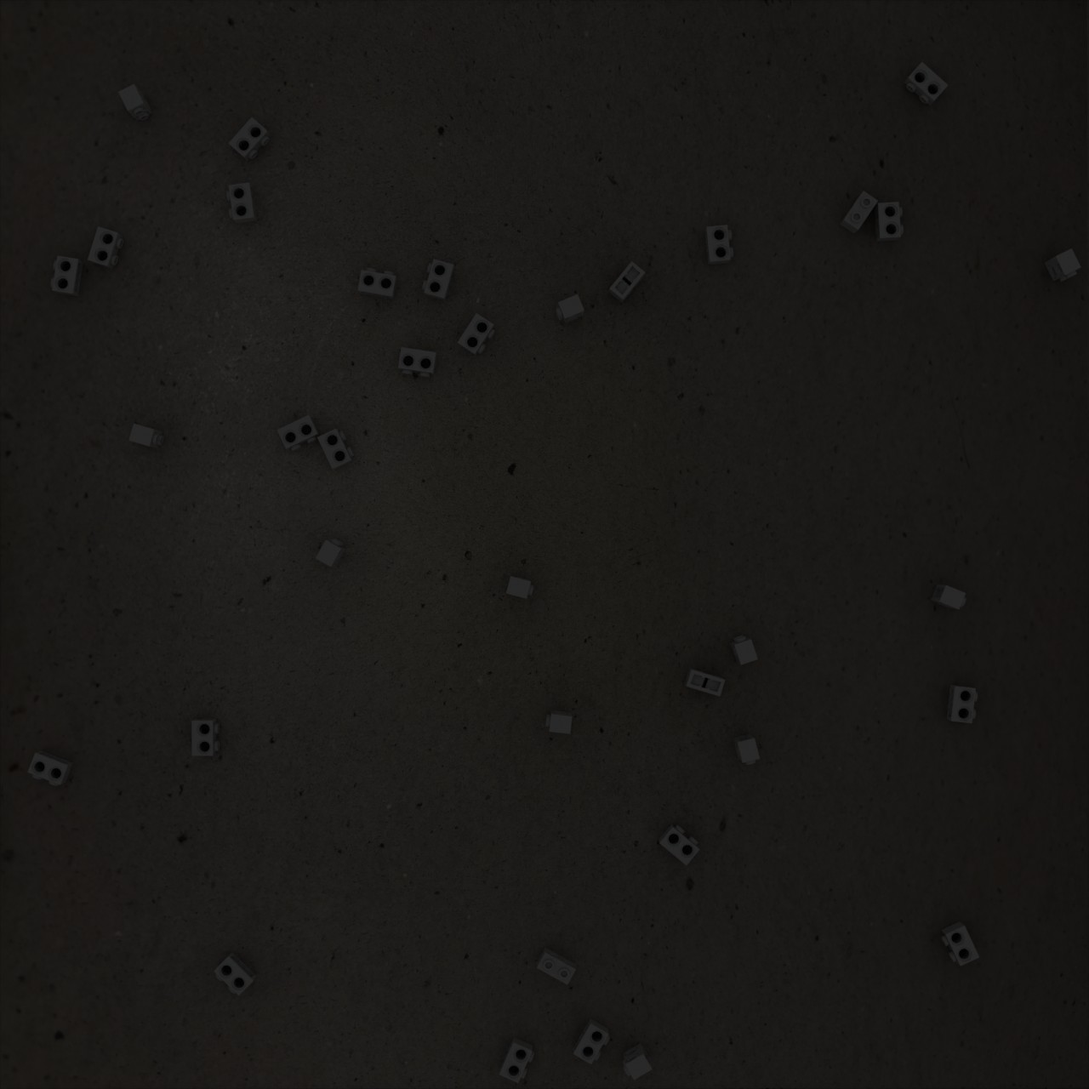lego: (904, 62, 948, 106), (228, 117, 271, 162), (214, 951, 257, 996), (658, 824, 700, 866), (941, 921, 980, 966), (573, 1018, 610, 1065), (457, 313, 496, 356), (499, 1037, 535, 1083), (27, 750, 73, 786), (840, 191, 878, 234), (87, 226, 124, 269), (608, 261, 645, 303), (317, 428, 354, 470), (277, 415, 320, 451), (537, 947, 576, 985), (422, 259, 455, 301), (51, 256, 84, 297), (226, 182, 257, 224), (118, 84, 153, 121), (1044, 248, 1081, 282), (946, 684, 978, 723), (358, 268, 398, 299), (874, 202, 904, 242), (684, 668, 725, 697), (398, 347, 437, 377), (622, 1042, 652, 1080), (705, 225, 733, 265), (192, 719, 220, 756), (930, 584, 966, 610), (129, 423, 164, 449), (315, 538, 346, 567), (556, 294, 585, 324), (730, 635, 758, 665), (733, 734, 760, 765), (506, 575, 534, 599), (546, 710, 572, 734)
